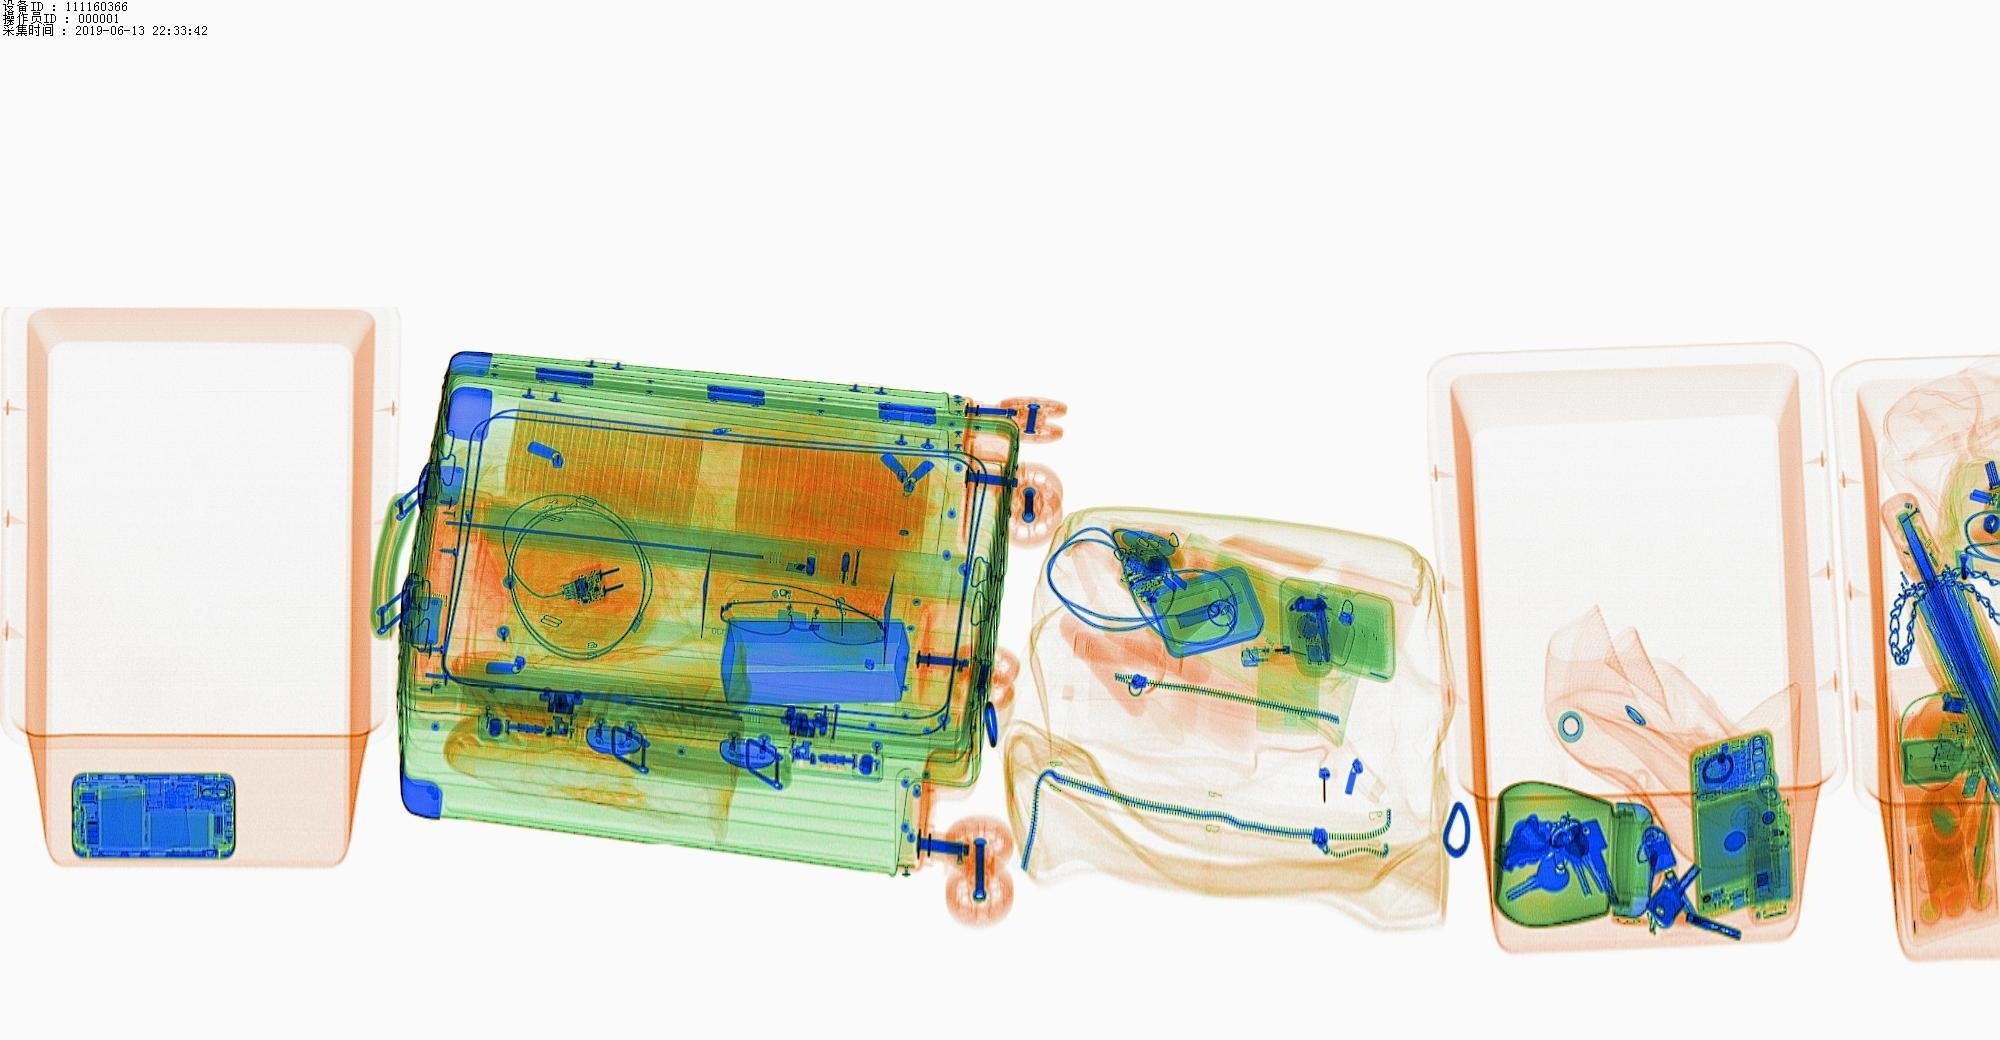NonmetallicFire: (1228, 635, 1336, 673)
